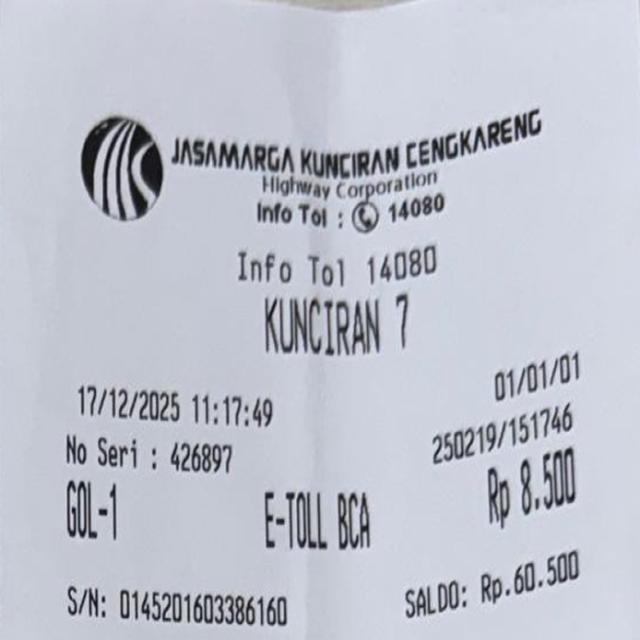date: (68, 371, 307, 432)
store: (165, 125, 558, 171)
total: (261, 460, 590, 552)
